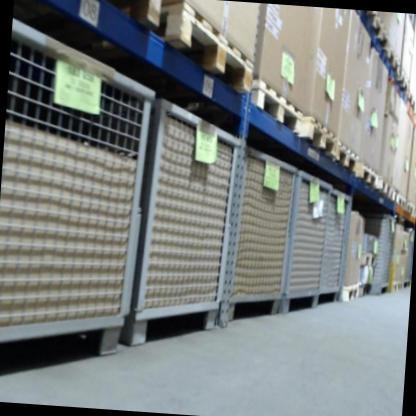pallet: (156, 0, 258, 99), (247, 77, 307, 137), (86, 0, 163, 30), (304, 114, 340, 163), (352, 11, 389, 50), (338, 141, 360, 177), (356, 160, 381, 191), (379, 174, 396, 202)
stillage: (0, 4, 170, 388), (117, 74, 249, 357), (219, 131, 302, 329), (276, 159, 335, 316), (315, 179, 355, 312), (350, 206, 395, 296), (404, 226, 414, 289)
